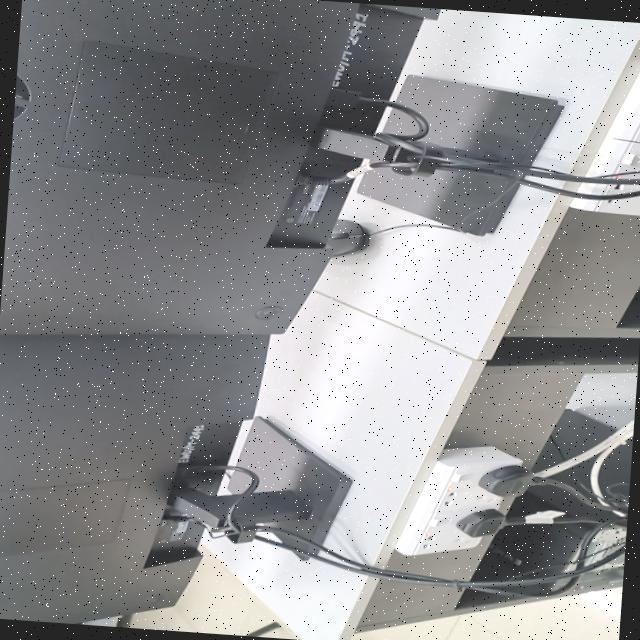Monitor: (0, 0, 359, 333), (0, 333, 270, 623)
